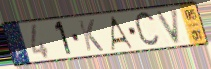1: (53, 19, 74, 58)
4: (31, 22, 51, 60)
A: (109, 15, 135, 52)
C: (133, 9, 162, 50)
K: (77, 18, 106, 53)
V: (155, 7, 181, 45)
